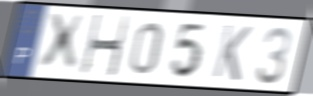0: (127, 20, 169, 75)
3: (255, 25, 292, 86)
5: (168, 21, 211, 79)
H: (79, 13, 132, 79)
K: (210, 22, 255, 84)
X: (37, 13, 88, 74)
